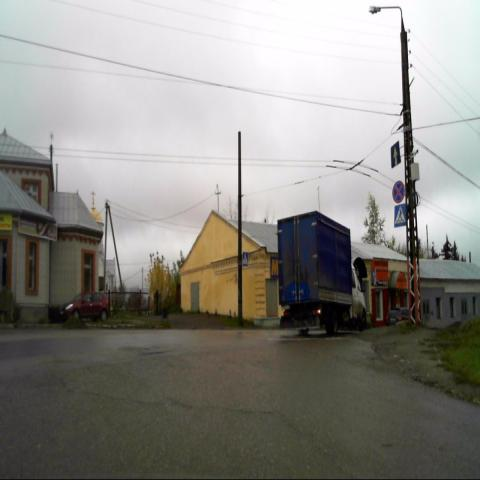3_27: (392, 181, 405, 203)
